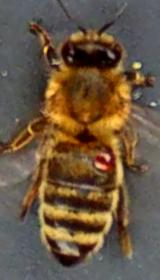varroa_mite: (84, 144, 128, 180)
